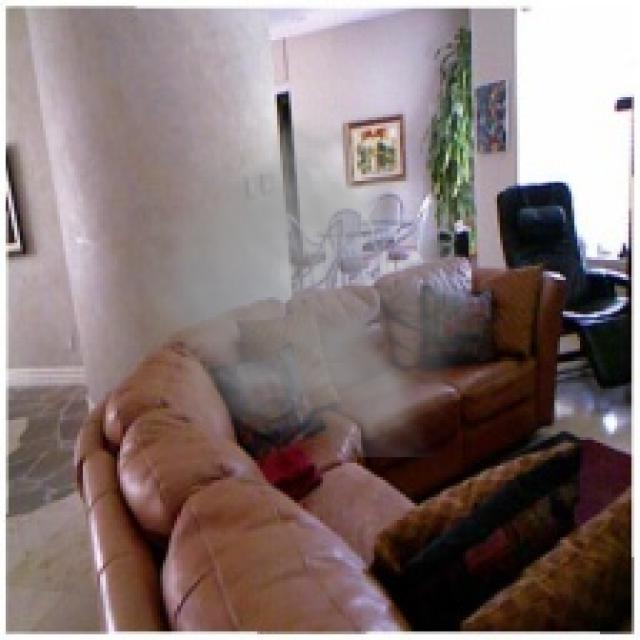Smoke: (111, 80, 503, 457)
